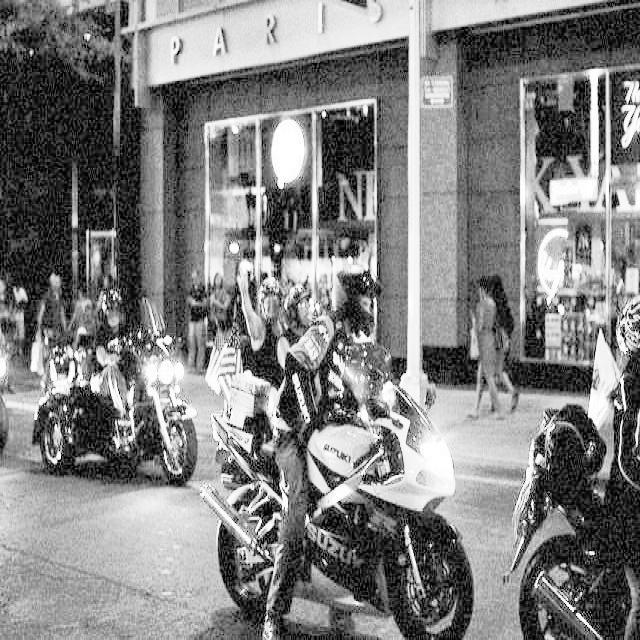Motorcycle: (196, 361, 483, 640), (510, 403, 640, 640), (96, 339, 206, 491), (29, 332, 100, 478)
Person: (284, 248, 384, 572), (230, 229, 302, 442), (25, 250, 92, 410), (598, 269, 640, 521), (465, 262, 525, 436), (188, 227, 231, 359)
